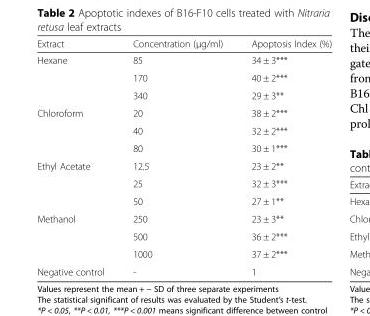table: (36, 36, 331, 277)
table column: (117, 36, 236, 277), (236, 36, 331, 277), (36, 36, 117, 277)
table column header: (36, 36, 331, 51)
table row: (36, 68, 331, 86), (36, 103, 331, 121), (36, 121, 331, 139), (36, 156, 331, 174), (36, 174, 331, 192), (36, 209, 331, 227), (36, 244, 331, 262), (36, 51, 331, 68), (36, 86, 331, 103), (36, 139, 331, 156), (36, 192, 331, 209), (36, 227, 331, 244), (36, 36, 331, 51), (36, 262, 331, 277)
table spanning cell: (36, 103, 117, 156), (36, 156, 117, 209), (36, 209, 117, 262), (36, 51, 117, 103)
